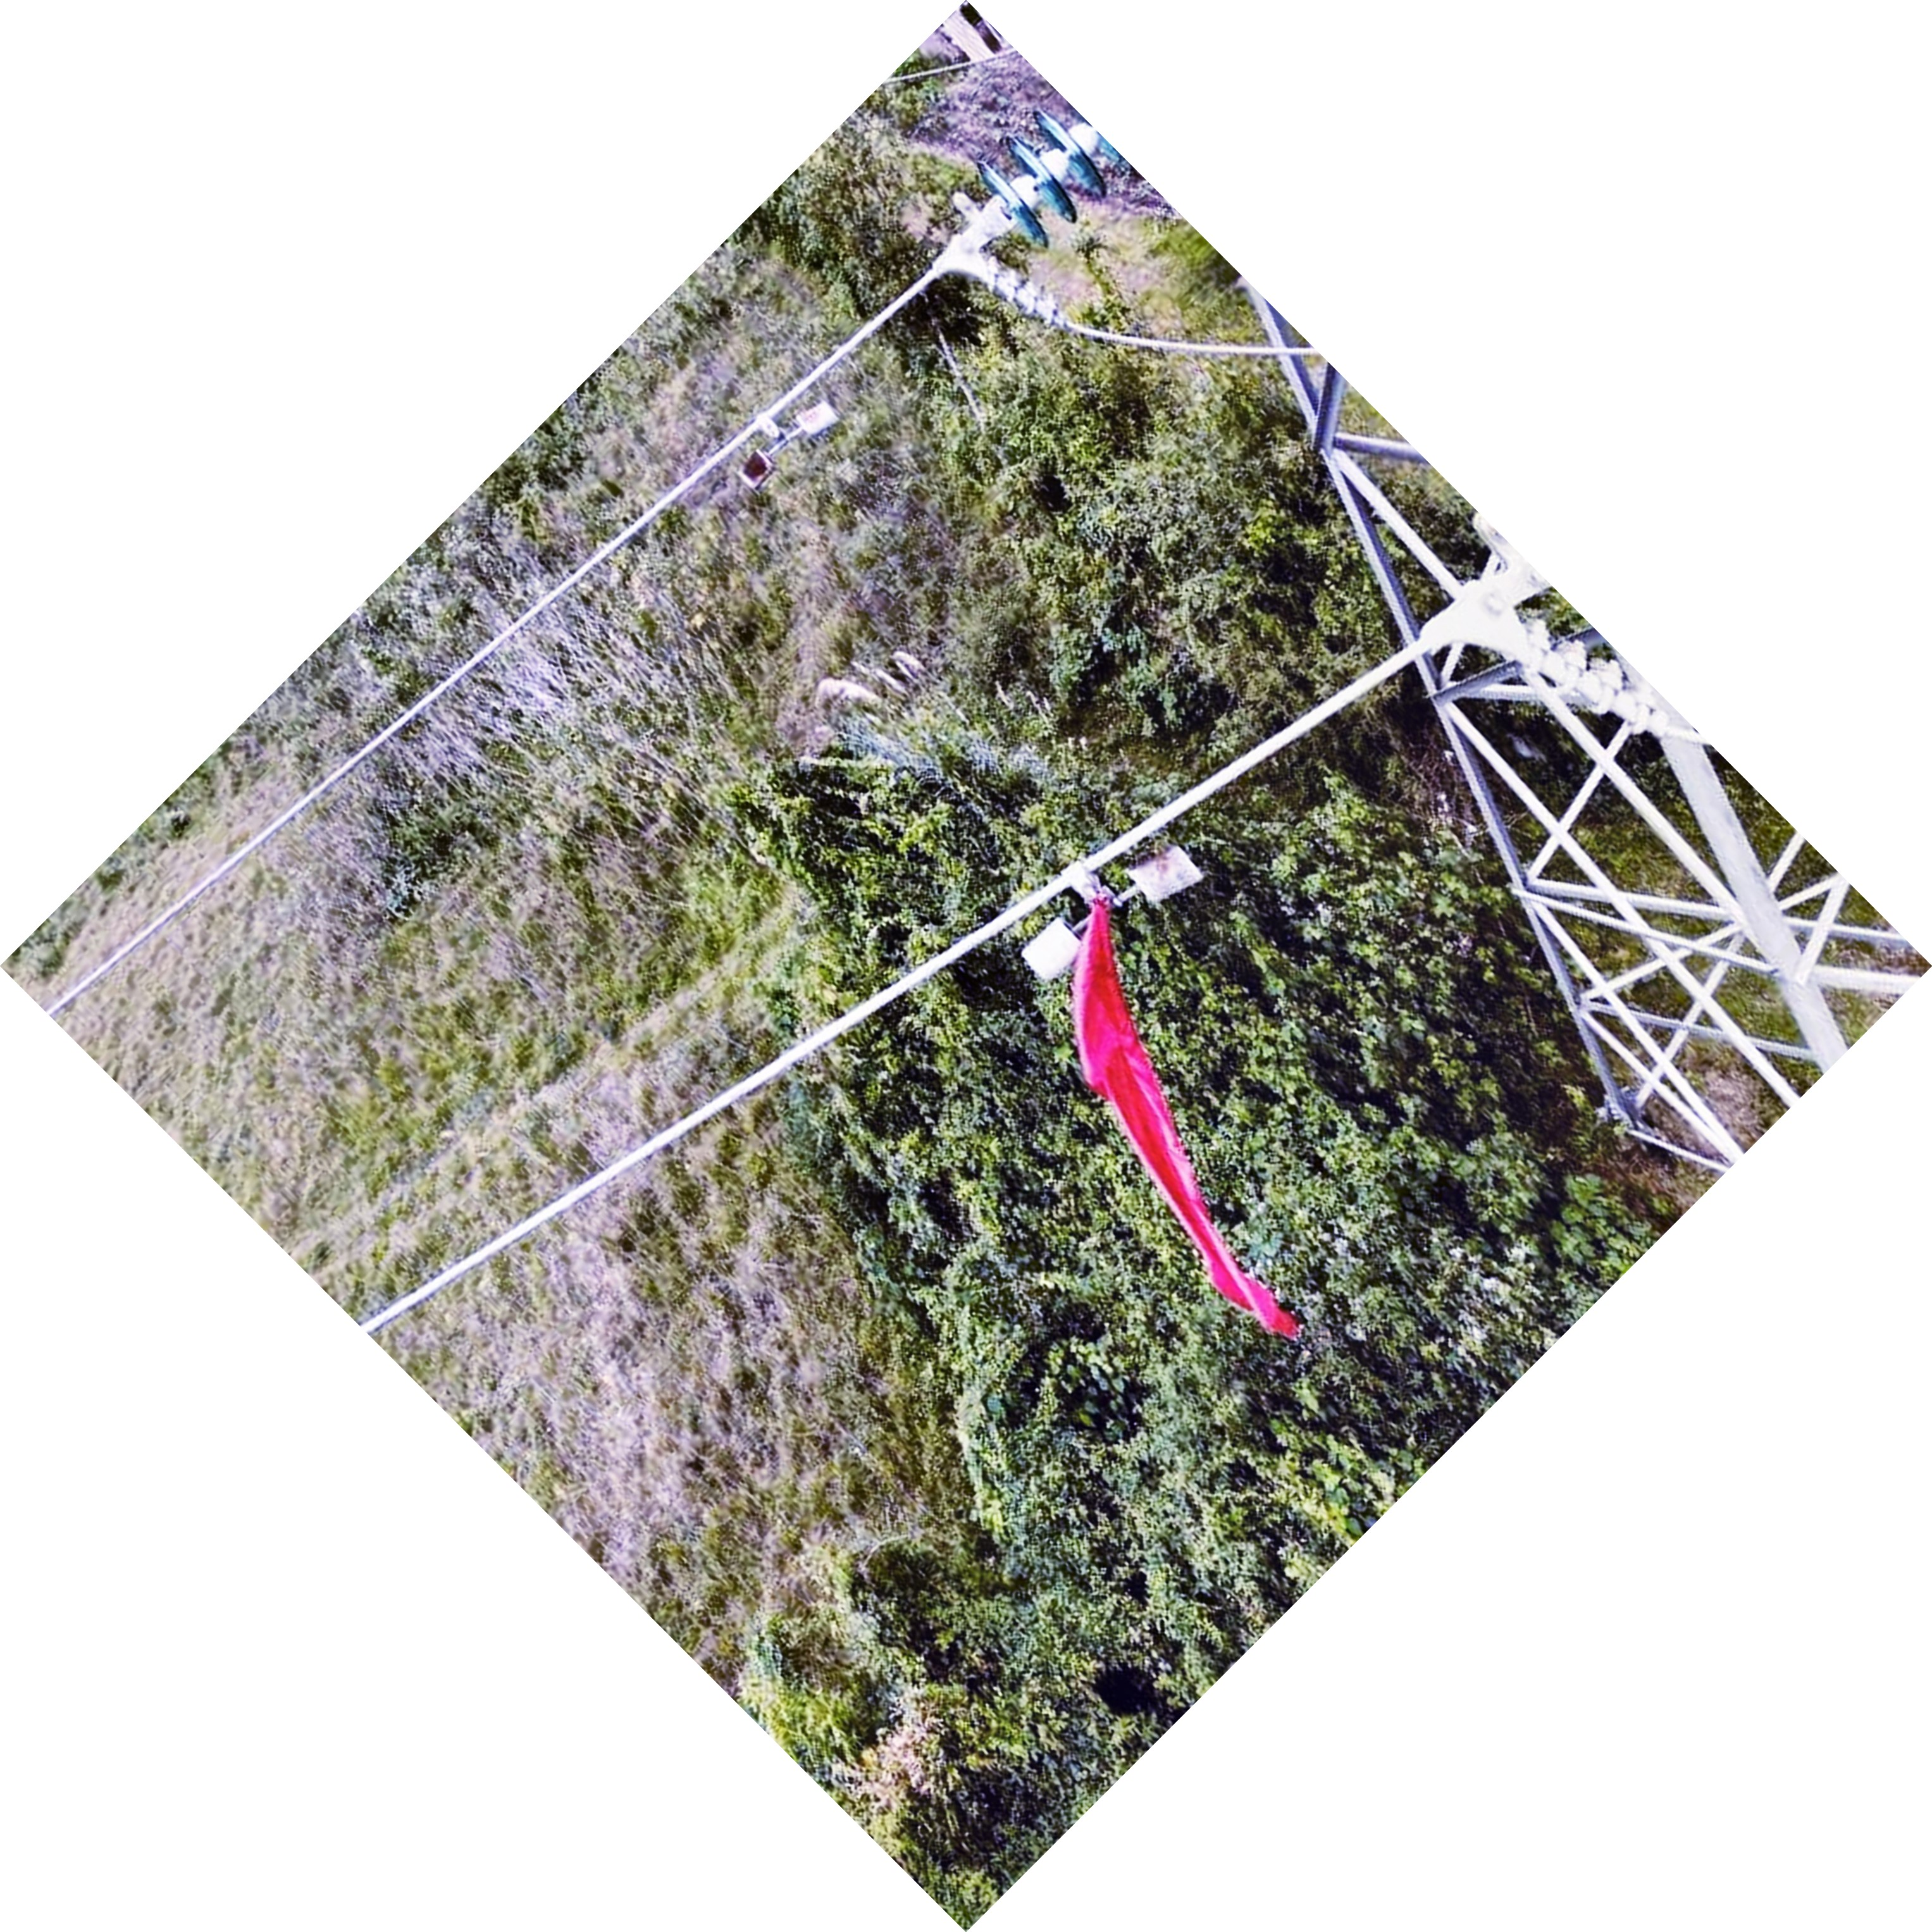wire foreign body: (991, 851, 1330, 1346)
